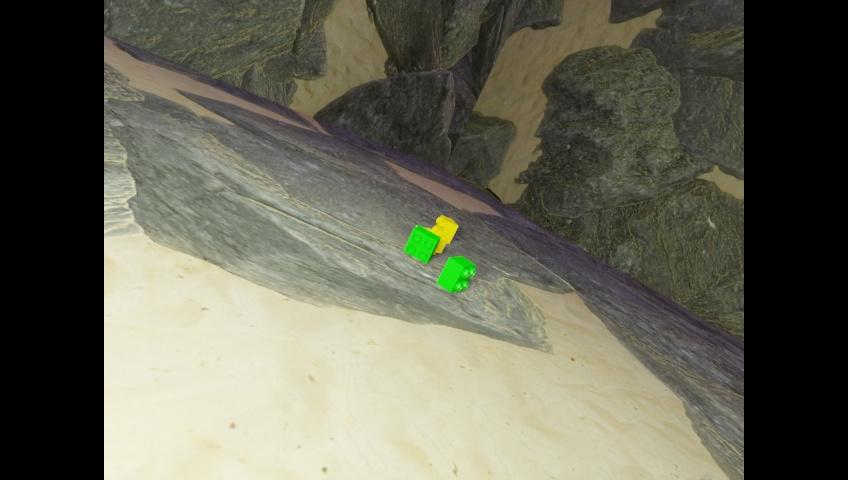2x2_green: (403, 224, 440, 263), (436, 255, 474, 292)
2x2_yellow: (432, 214, 459, 244), (427, 228, 446, 254)
